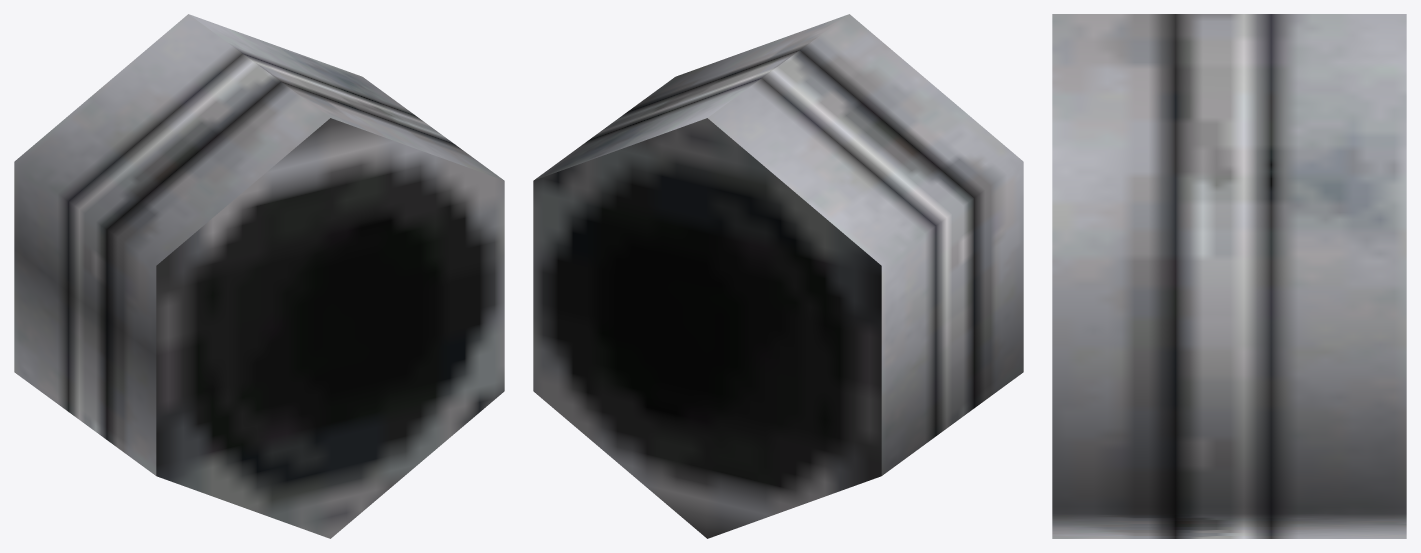
Rendered from cable_thick_clip.dae.
The picture shows the model from 3 angles, left to right: view 1: azimuth 30°, elevation 25°; view 2: azimuth 150°, elevation 25°; view 3: azimuth 270°, elevation 25°; orthographic projection. The views are drawn at different scales.
Visible parts, largest first — view 1: cable_thick_med1; view 2: cable_thick_med1; view 3: cable_thick_med1.
Boxes of the visible parts, <box> form: cable_thick_med1: <box>14,14,504,538</box>; cable_thick_med1: <box>533,14,1023,538</box>; cable_thick_med1: <box>1052,14,1406,538</box>.
Bounding box in the file's own units: 16.29 × 18.81 × 11.51.
